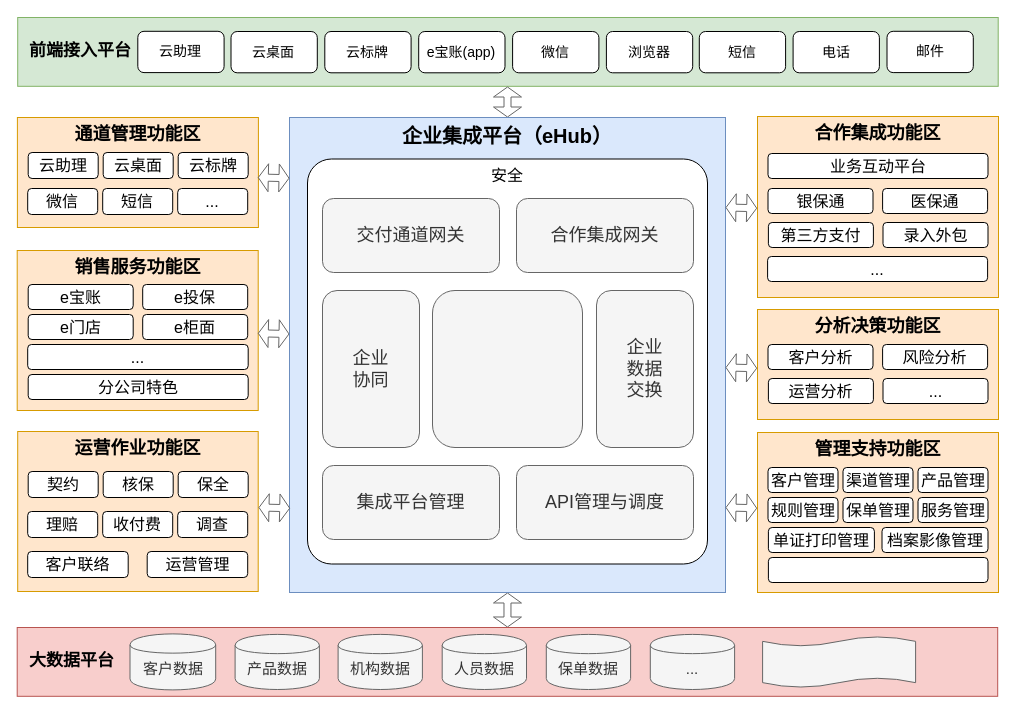
The diagram is 1017 pixels wide and 714 high, and some of its shapes have lost their labels. The shapes that lost their labels are listed below. From the top down, each one's centre as x and y in pixels, then its label:
At point (507, 369): "企业交换数据 通用模型".
At point (877, 569): "机构、人员与权限管理".
At point (839, 662): "非结构化数据".
